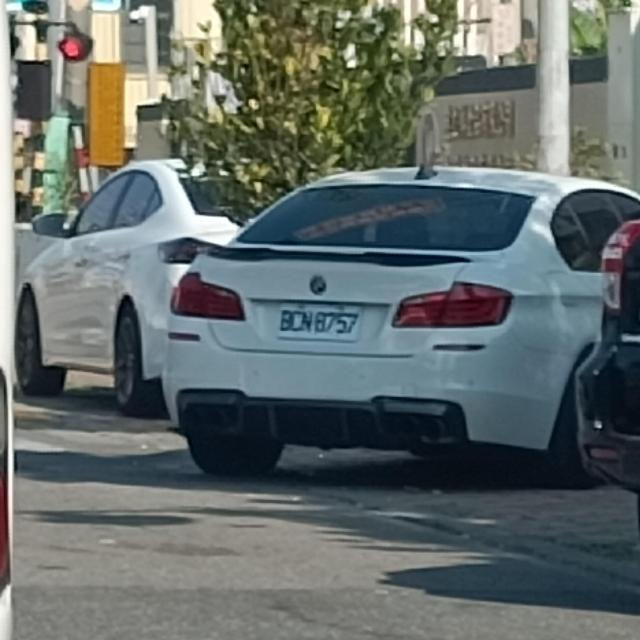W: (278, 300, 360, 342)
